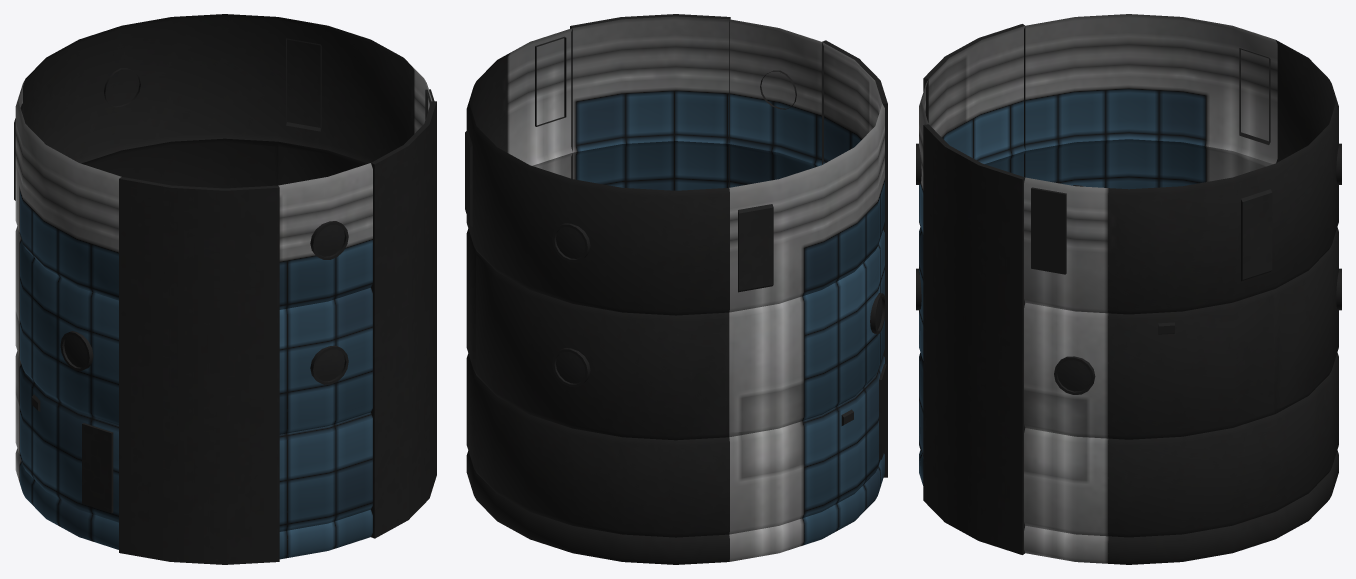
File: vega_crew_s1p5_1_blanket.obj
3 views of the same model, side by side, from view 1: azimuth 30°, elevation 25°; view 2: azimuth 150°, elevation 25°; view 3: azimuth 270°, elevation 25° (orthographic).
Parts seen in each view (by area): view 1: 1, w1; view 2: 1, w1; view 3: 1, w1.
Boxes of the visible parts, left/top/right/bottom form: 1: left=14, top=14, right=436, bottom=564; w1: left=64, top=224, right=344, bottom=381; 1: left=465, top=14, right=887, bottom=564; w1: left=556, top=227, right=882, bottom=383; 1: left=916, top=14, right=1341, bottom=564; w1: left=1057, top=360, right=1091, bottom=391.
Size of the model in its own units: 1.91 by 1.88 by 1.92.
